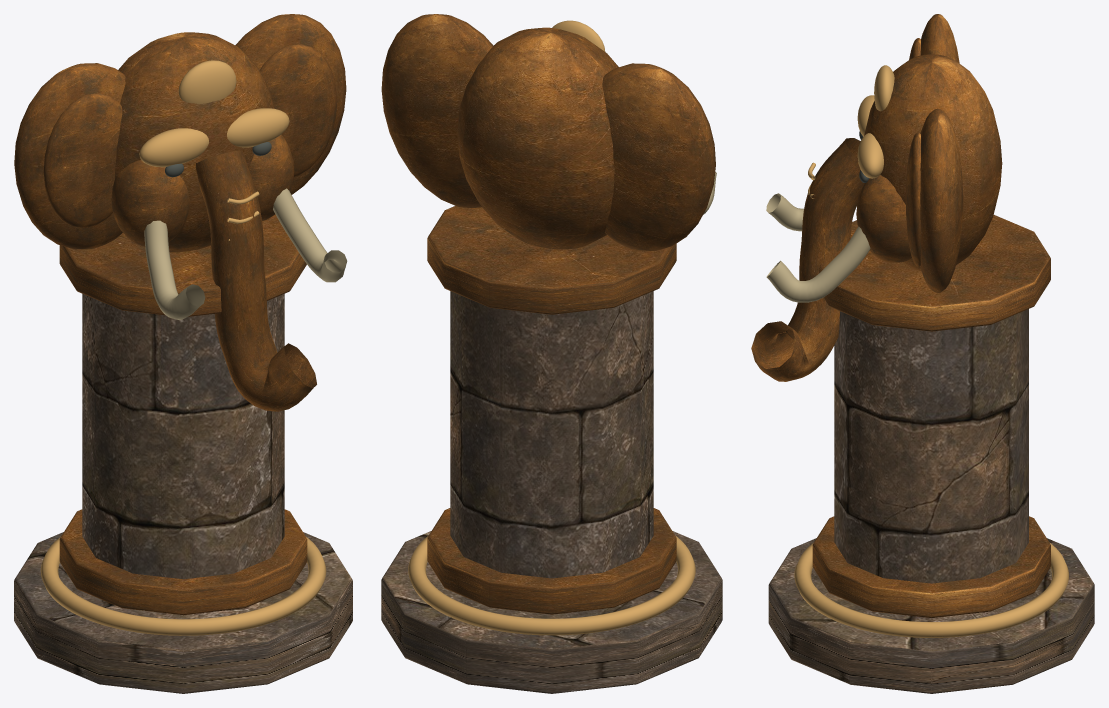
File: time-ruins-elephant.glb
3 renders of one model, left to right at view 1: azimuth 30°, elevation 25°; view 2: azimuth 150°, elevation 25°; view 3: azimuth 270°, elevation 25°, orthographic. The views are drawn at different scales.
Visible parts, largest first — view 1: time-ruins-elephant Aged bronze, time-ruins-elephant Weathered limestone, time-ruins-elephant Worn gold edges, time-ruins-elephant Aged tusk stone; view 2: time-ruins-elephant Aged bronze, time-ruins-elephant Weathered limestone, time-ruins-elephant Worn gold edges; view 3: time-ruins-elephant Weathered limestone, time-ruins-elephant Aged bronze, time-ruins-elephant Worn gold edges, time-ruins-elephant Aged tusk stone.
Boxes of the visible parts, x1,y1,x2,y2 form: time-ruins-elephant Aged bronze: [14, 14, 346, 615]; time-ruins-elephant Weathered limestone: [14, 294, 352, 693]; time-ruins-elephant Worn gold edges: [40, 60, 326, 635]; time-ruins-elephant Aged tusk stone: [144, 188, 347, 319]; time-ruins-elephant Aged bronze: [381, 14, 715, 614]; time-ruins-elephant Weathered limestone: [381, 291, 722, 693]; time-ruins-elephant Worn gold edges: [408, 20, 695, 635]; time-ruins-elephant Weathered limestone: [768, 309, 1094, 693]; time-ruins-elephant Aged bronze: [751, 14, 1050, 617]; time-ruins-elephant Worn gold edges: [794, 65, 1068, 637]; time-ruins-elephant Aged tusk stone: [766, 193, 870, 302].
Bounding box in the file's own units: 1.51 × 2.56 × 1.41.
5 materials, 2 textured.
